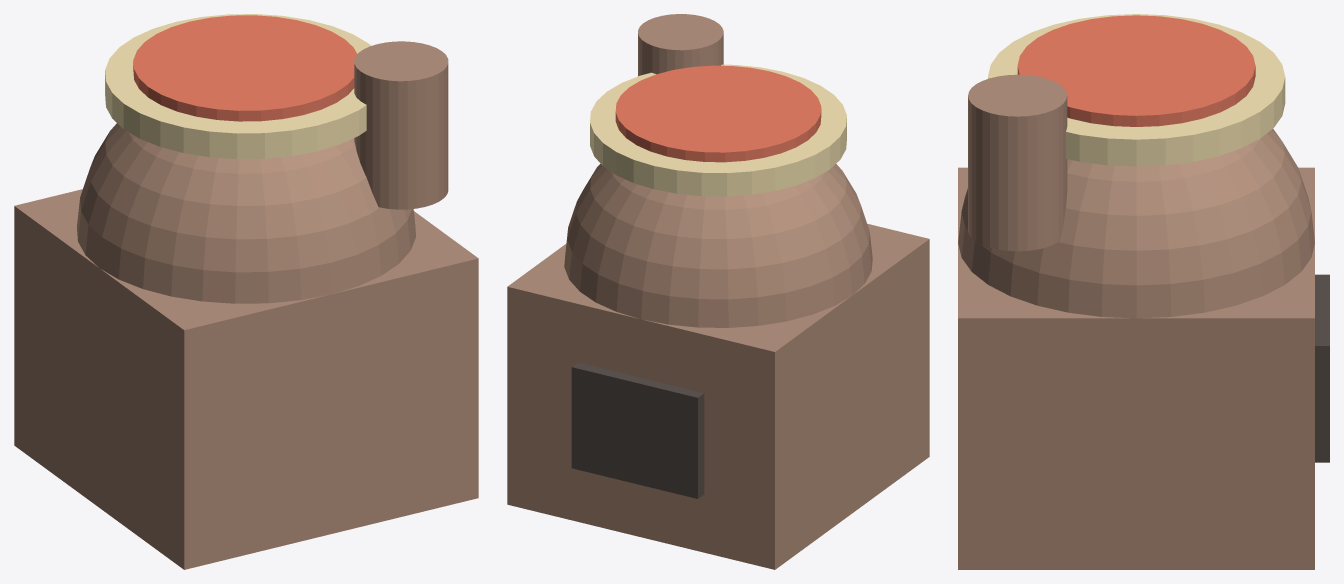
Rendered from PizzaOven.glb.
The picture shows the model from 3 angles, left to right: view 1: azimuth 30°, elevation 25°; view 2: azimuth 150°, elevation 25°; view 3: azimuth 270°, elevation 25°; orthographic projection. The views are drawn at different scales.
Parts seen in each view (by area): view 1: Cube, Sphere, Cylinder.002, Cylinder, Cylinder.001; view 2: Cube, Sphere, Cylinder.002, Cube.001, Cylinder.001, Cylinder; view 3: Cube, Sphere, Cylinder.002, Cylinder, Cylinder.001, Cube.001.
Part boxes in pixels (x1=…): Cube: x1=14, y1=189, x2=478, y2=569; Sphere: x1=77, y1=123, x2=415, y2=303; Cylinder.002: x1=133, y1=15, x2=357, y2=121; Cylinder: x1=354, y1=41, x2=448, y2=209; Cylinder.001: x1=105, y1=14, x2=370, y2=159; Cube: x1=507, y1=224, x2=929, y2=569; Sphere: x1=564, y1=164, x2=872, y2=327; Cylinder.002: x1=615, y1=65, x2=821, y2=162; Cube.001: x1=571, y1=362, x2=704, y2=498; Cylinder.001: x1=590, y1=64, x2=846, y2=196; Cylinder: x1=638, y1=14, x2=723, y2=76; Cube: x1=958, y1=167, x2=1314, y2=569; Sphere: x1=958, y1=129, x2=1314, y2=318; Cylinder.002: x1=1017, y1=15, x2=1255, y2=126; Cylinder: x1=968, y1=74, x2=1067, y2=251; Cylinder.001: x1=988, y1=14, x2=1285, y2=166; Cube.001: x1=1315, y1=274, x2=1329, y2=462.
Size of the model in its own units: 0.72 by 1 by 0.75.
